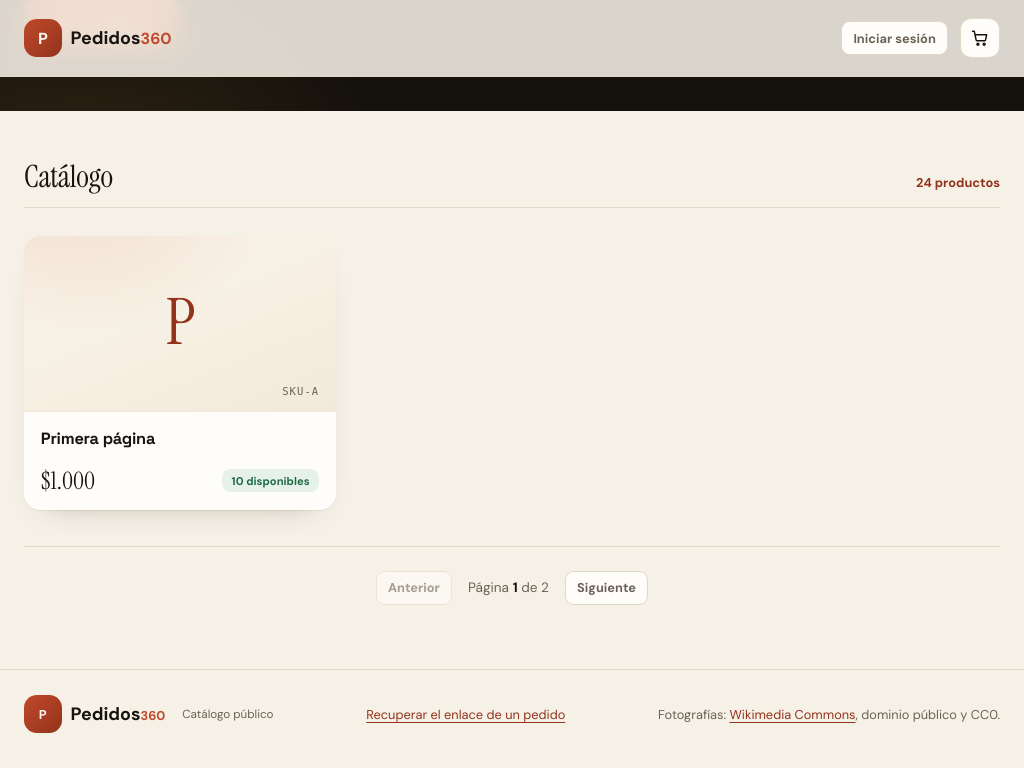
Scenario: StorePage › ignora la respuesta de una página que llega tarde
The image size is (1024, 768).
(page scrolled)
expect the heading "Primera página" is shown: met, box top-left (41, 428), bottom-right (155, 448)
Click the button "Siguiente". click: [607, 588]
box: top-left (565, 571), bottom-right (648, 605)
(page scrolled)
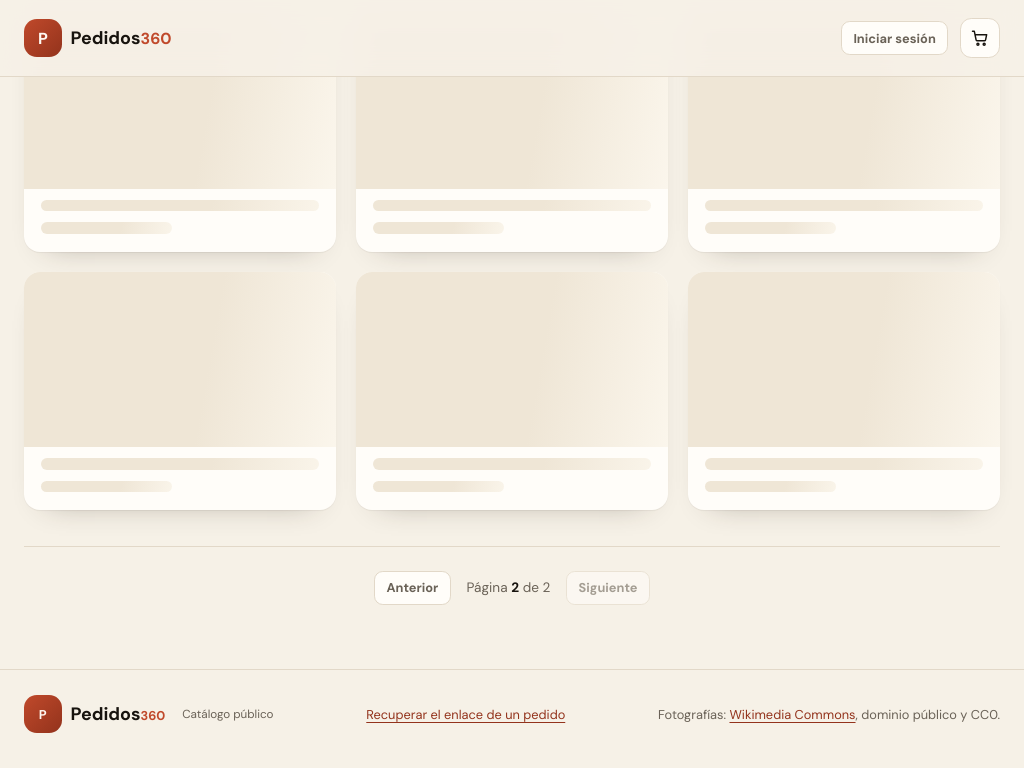
Click the button "Anterior". click: [412, 588]
box: top-left (374, 571), bottom-right (450, 605)
(page scrolled)
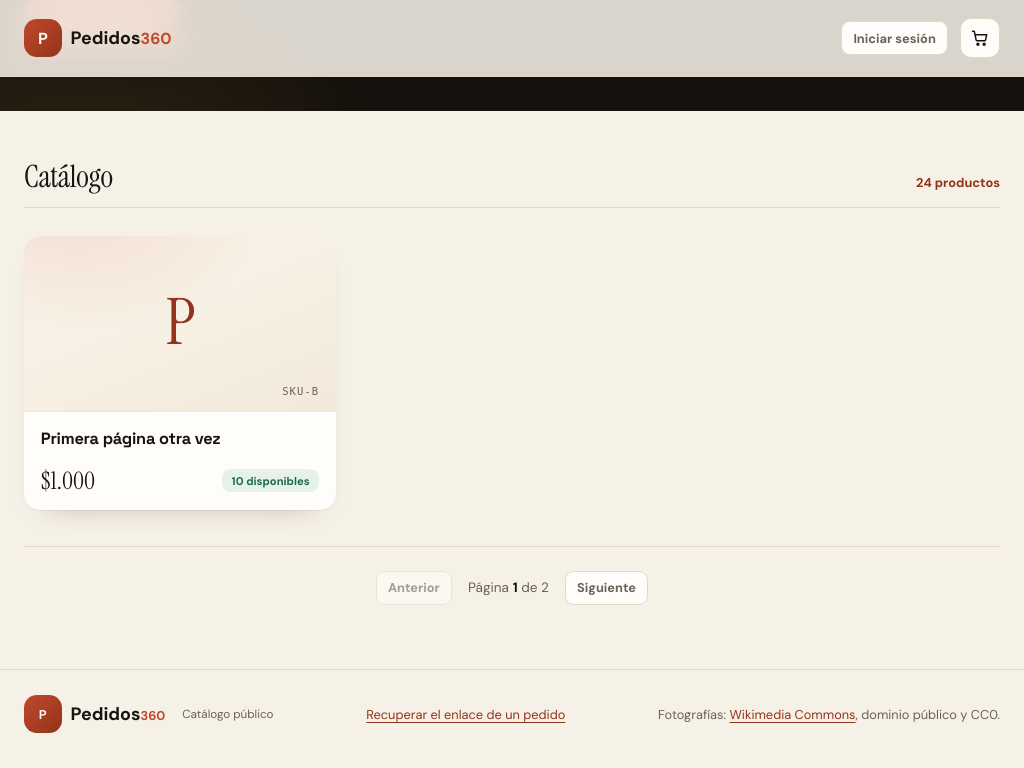
expect the heading "Primera página otra vez" is shown: met, box top-left (41, 428), bottom-right (220, 448)
